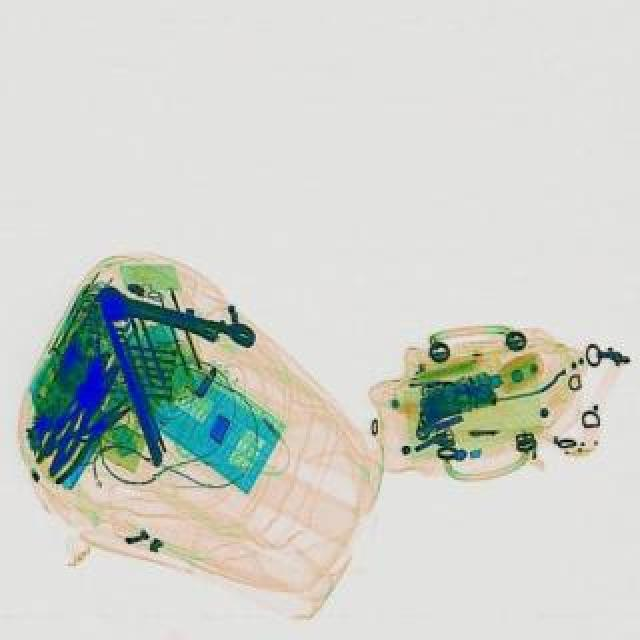scissors: (88, 280, 260, 354)
wrench: (36, 358, 136, 478), (34, 384, 150, 484)
